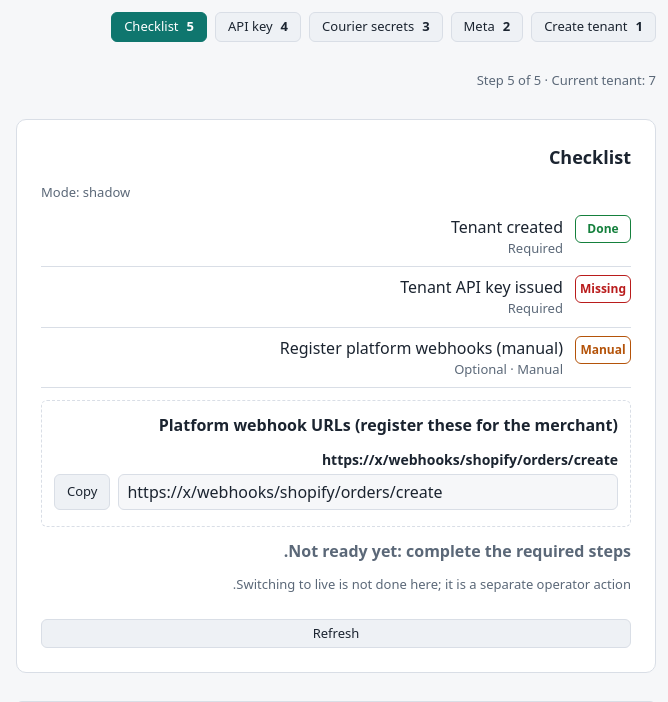
Test: onboarding wizard › copy button uses the clipboard
Expected: the field showing "https://x/webhooks/shopify/orders/create" is shown, [118,474,618,510]
Click the button named "Copy:". click: point(82, 492)
box: [54,474,110,510]
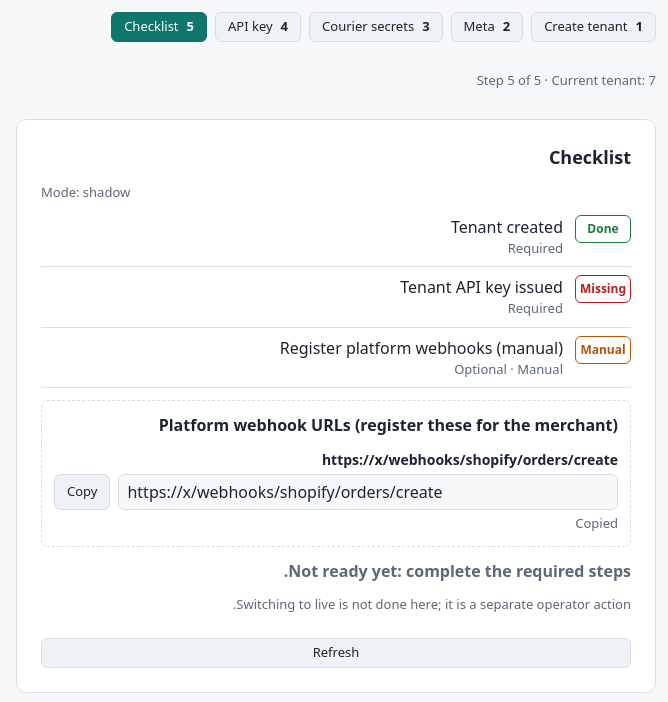
Result: the text "Copied" is shown at [575,514,618,532]
